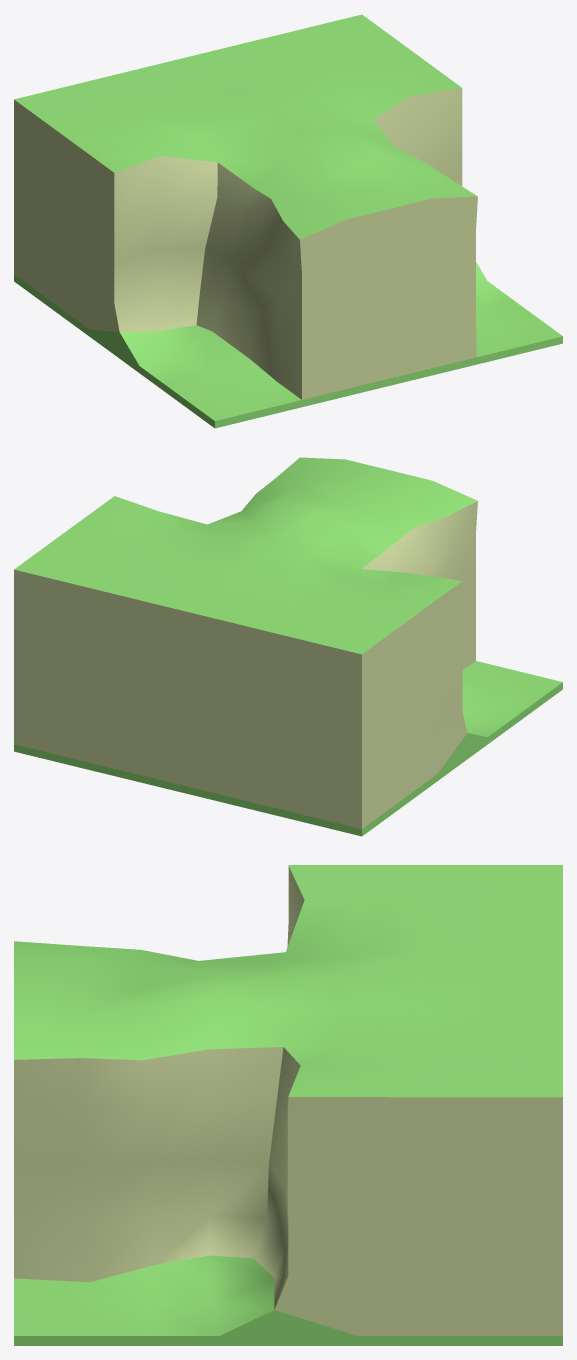
Rendered from wall_straight_join1_1.glb.
3 views of the same model, one above another, from view 1: azimuth 30°, elevation 25°; view 2: azimuth 150°, elevation 25°; view 3: azimuth 270°, elevation 25° (orthographic). The views are drawn at different scales.
Parts seen in each view (by area): view 1: wall_slim_join1_1; view 2: wall_slim_join1_1; view 3: wall_slim_join1_1.
Part boxes in pixels (x1=…): wall_slim_join1_1: x1=14, y1=14, x2=562, y2=428; wall_slim_join1_1: x1=14, y1=457, x2=562, y2=836; wall_slim_join1_1: x1=14, y1=865, x2=562, y2=1345.
Size of the model in its own units: 2 by 1.05 by 2.
